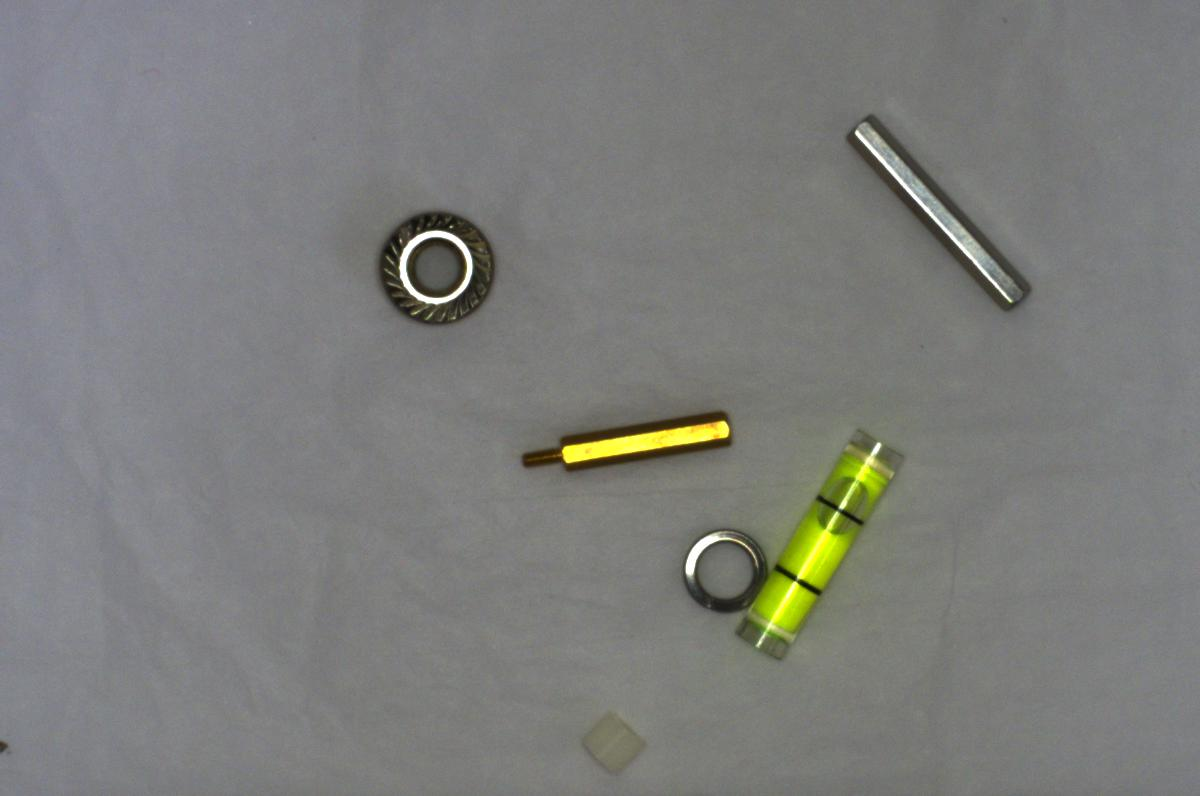Double hexagonal column: (850, 109, 1035, 320)
Flange nut: (375, 203, 497, 326)
Hexagon pillar: (513, 406, 732, 476)
Horizontal bubble: (730, 423, 900, 668)
Plastic cushion pillar: (579, 708, 657, 774)
Spring washer: (678, 520, 768, 615)
